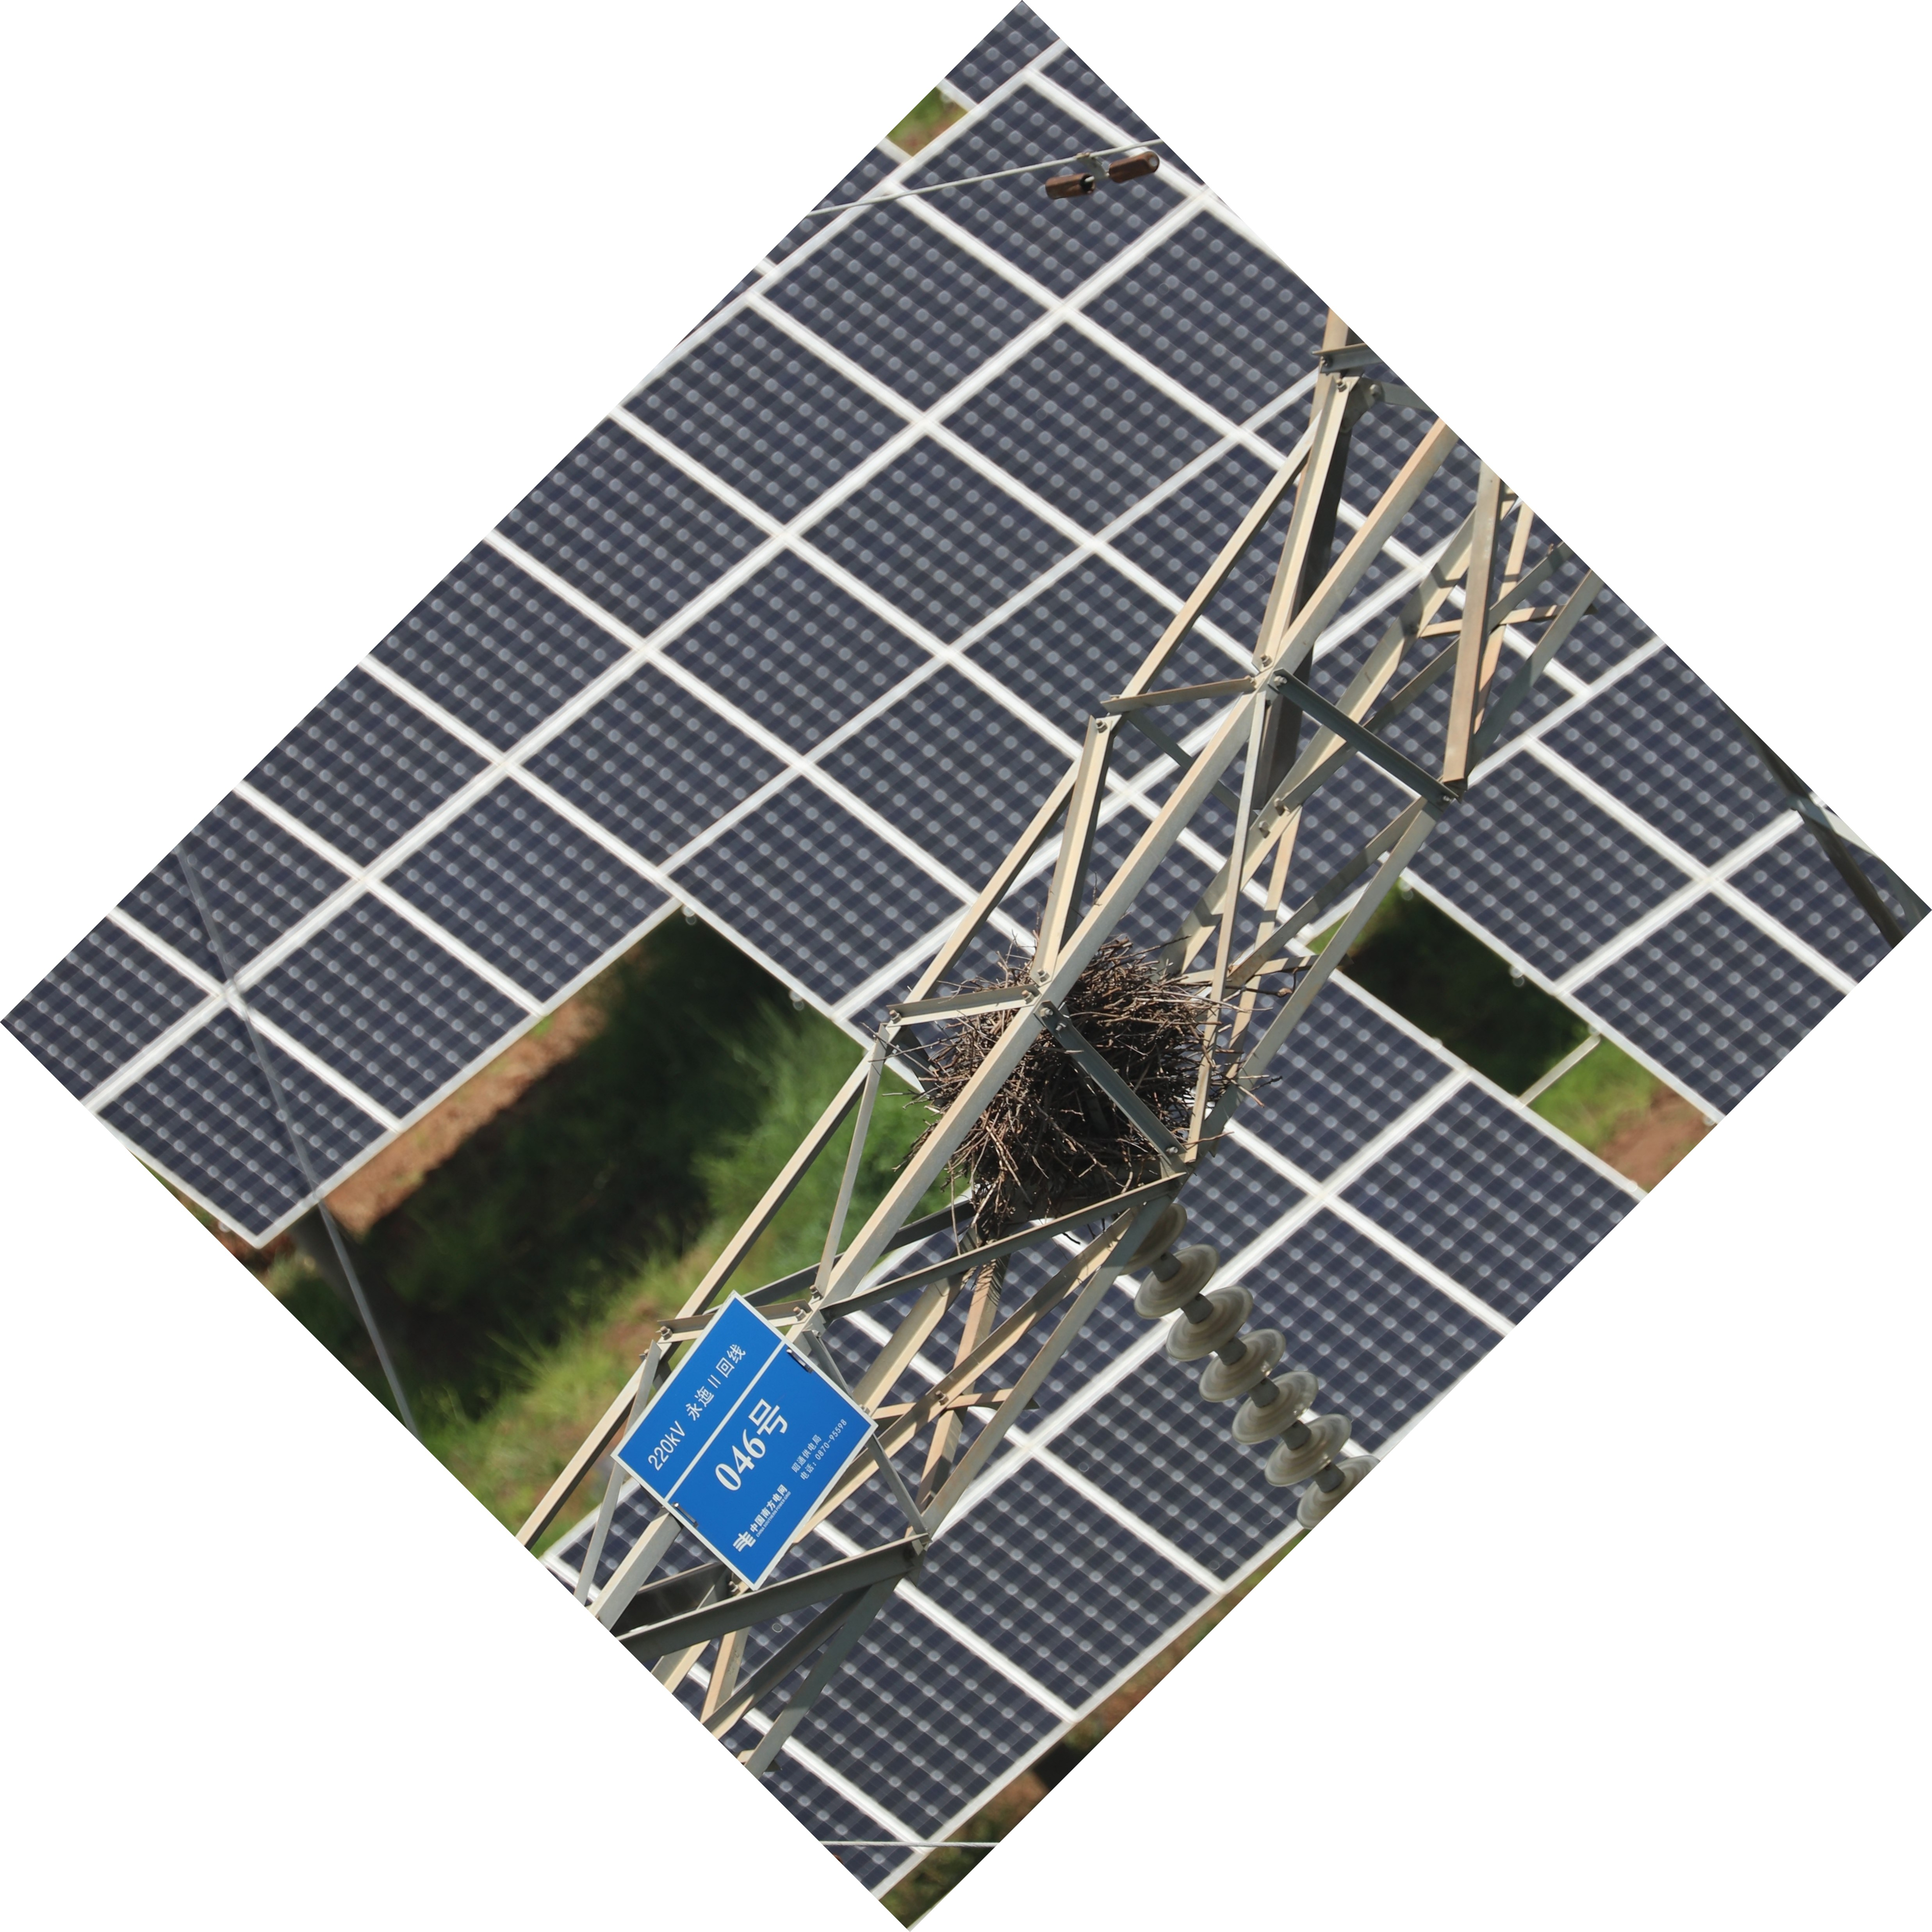niaowo: (892, 931, 1230, 1231)
